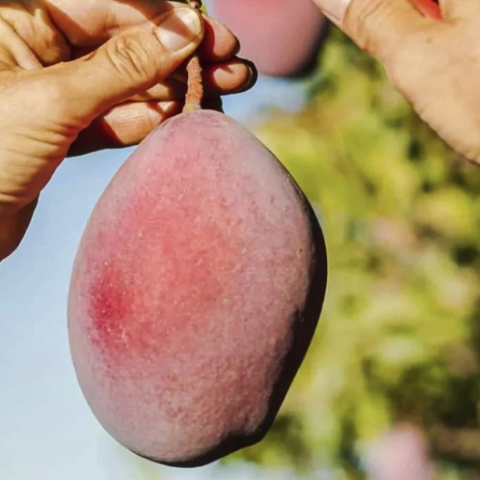mango: (46, 95, 359, 472)
